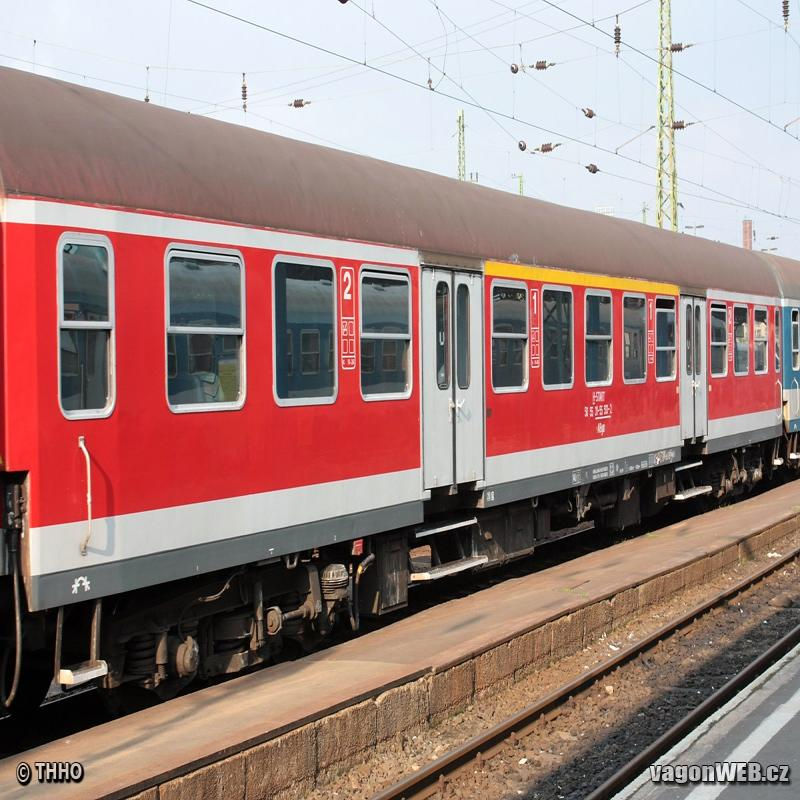train: (1, 65, 780, 728)
